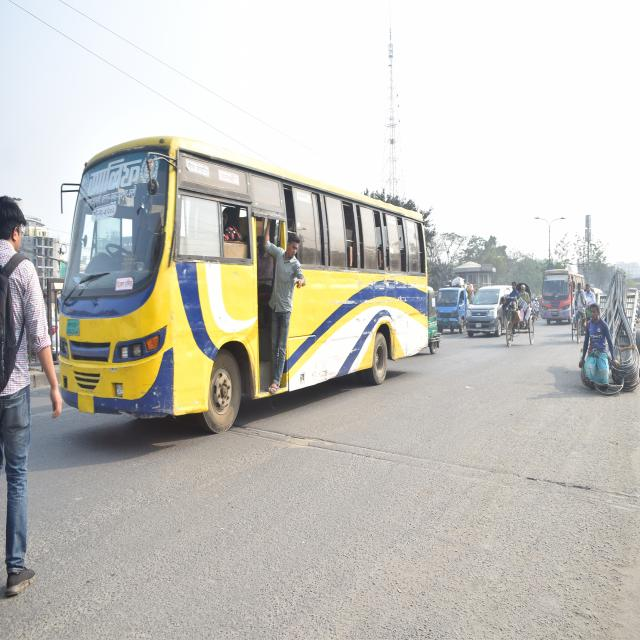bus: (58, 151, 426, 434), (539, 263, 587, 323)
microbus: (470, 276, 514, 354)
pickup-van: (431, 276, 469, 347)
